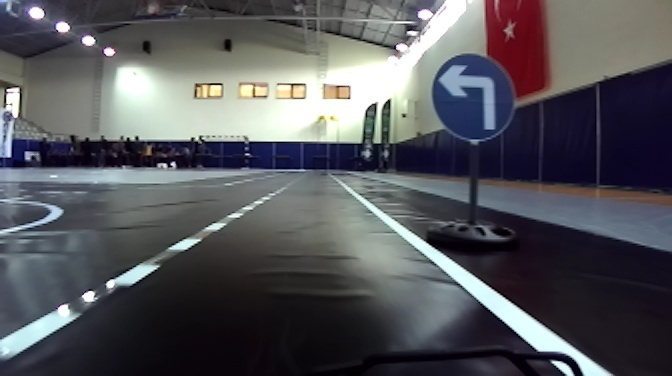sola_donus: (429, 56, 517, 142)
